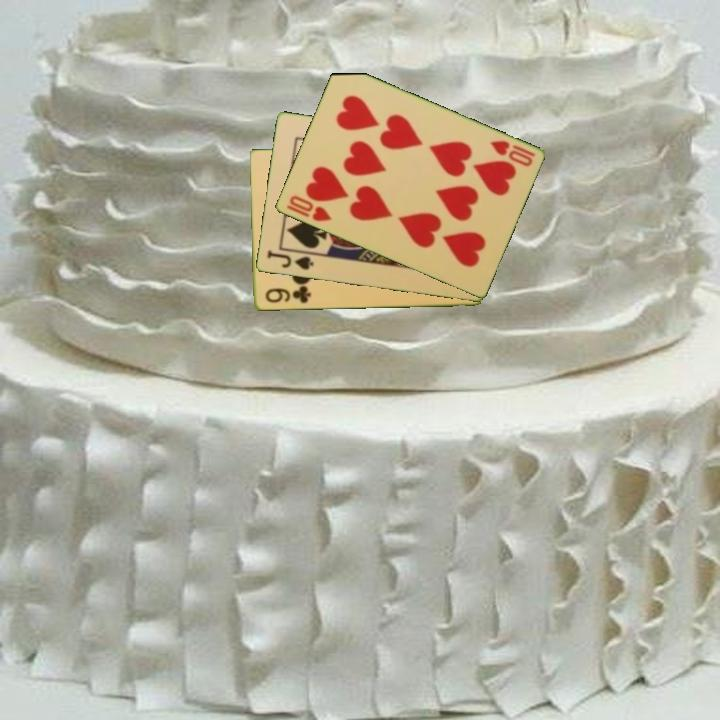10h: (282, 192, 334, 225), (486, 137, 538, 170)
9c: (262, 283, 314, 306)
Js: (263, 247, 316, 273)
